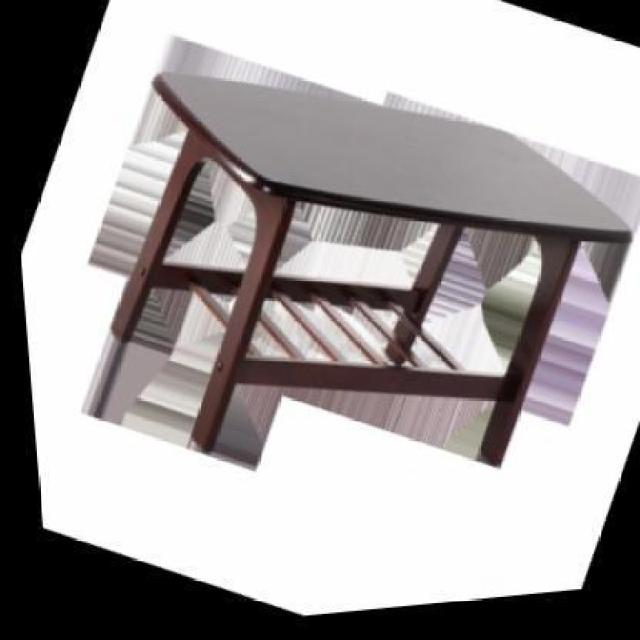tables: (83, 69, 634, 466)
